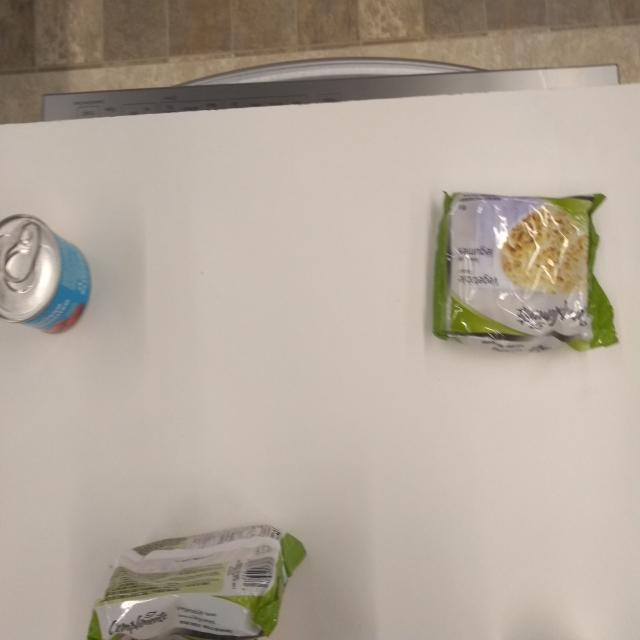noodles: (429, 184, 621, 356)
